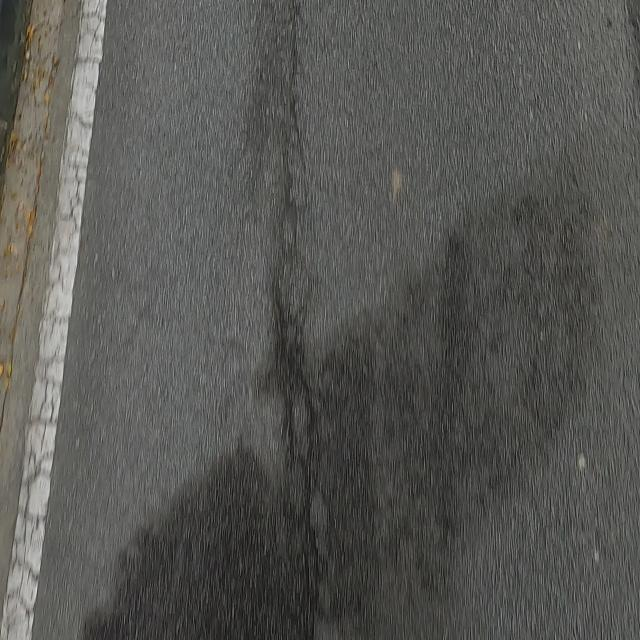Retak-Memanjang: (271, 0, 320, 640)
